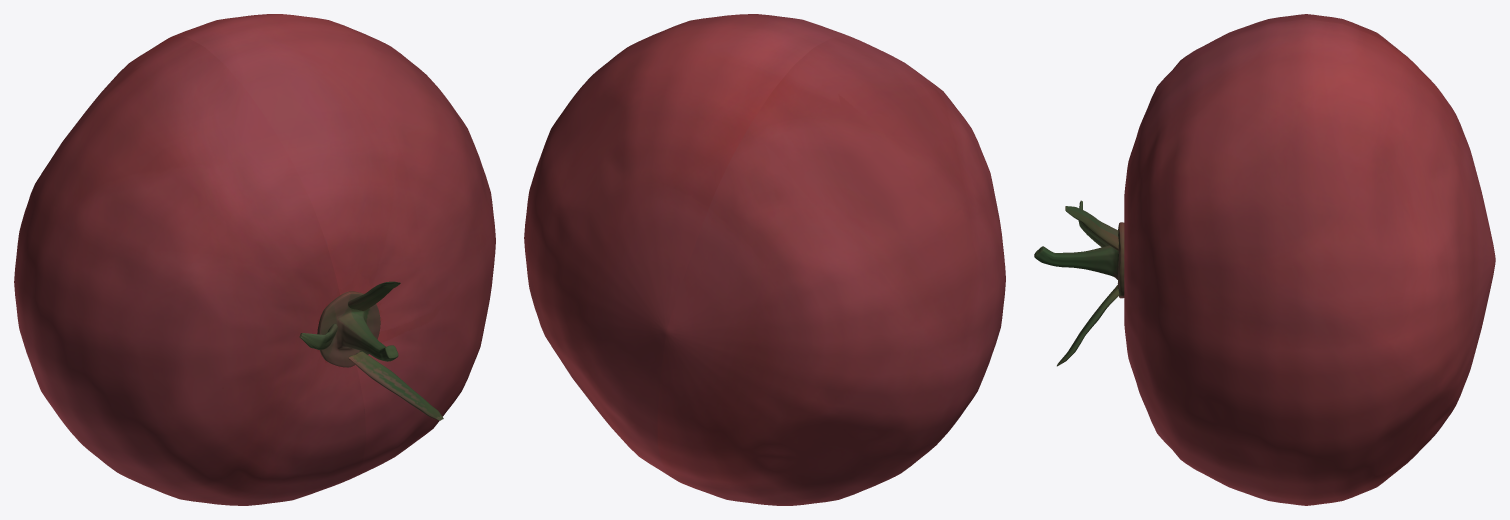
Rendered from tomato.glb.
The picture shows the model from 3 angles, left to right: view 1: azimuth 30°, elevation 25°; view 2: azimuth 150°, elevation 25°; view 3: azimuth 270°, elevation 25°; orthographic projection. The views are drawn at different scales.
Visible parts, largest first — view 1: Sphere_0; view 2: Sphere_0; view 3: Sphere_0.
Boxes of the visible parts, left/top/right/bottom form: Sphere_0: left=14, top=14, right=495, bottom=505; Sphere_0: left=524, top=14, right=1005, bottom=505; Sphere_0: left=1034, top=14, right=1495, bottom=505.
Size of the model in its own units: 0.049 by 0.049 by 0.0459.
Materials: 1 (1 with a texture image).
